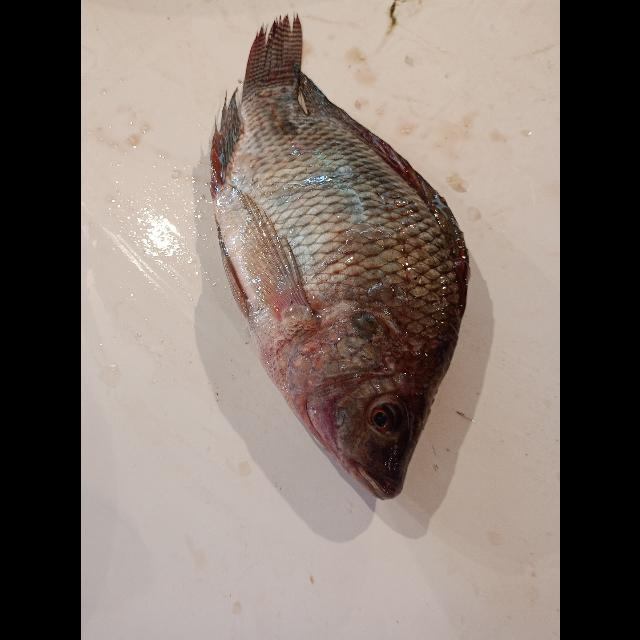Tilapia: (210, 12, 468, 494)
